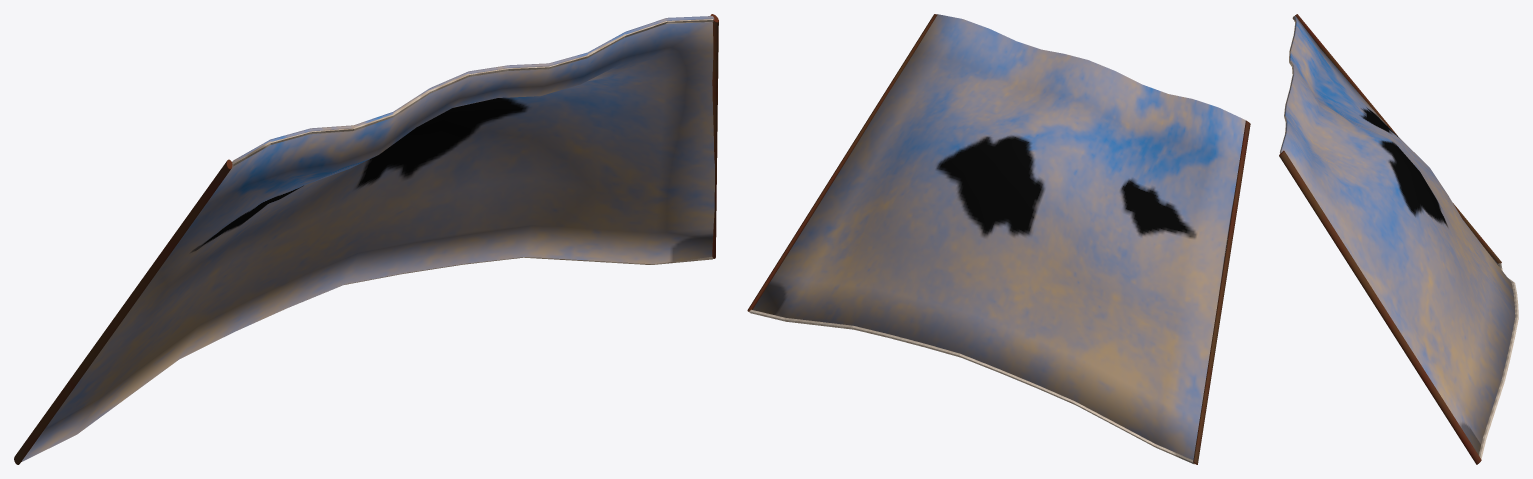
Rendered from SafetyNet-Damage 1.fbx.
The picture shows the model from 3 angles, left to right: view 1: azimuth 30°, elevation 25°; view 2: azimuth 150°, elevation 25°; view 3: azimuth 270°, elevation 25°; orthographic projection. The views are drawn at different scales.
Visible parts, largest first — view 1: Guard_Rails_003, Guard_Rails_002; view 2: Guard_Rails_003, Guard_Rails_002; view 3: Guard_Rails_003, Guard_Rails_002.
Boxes of the visible parts, left/top/right/bottom form: Guard_Rails_003: left=22, top=16, right=714, bottom=461; Guard_Rails_002: left=14, top=14, right=718, bottom=464; Guard_Rails_003: left=752, top=14, right=1245, bottom=461; Guard_Rails_002: left=747, top=14, right=1250, bottom=464; Guard_Rails_003: left=1280, top=16, right=1515, bottom=454; Guard_Rails_002: left=1279, top=14, right=1518, bottom=464.
Bounding box in the file's own units: 6.67 × 4.04 × 2.87.
